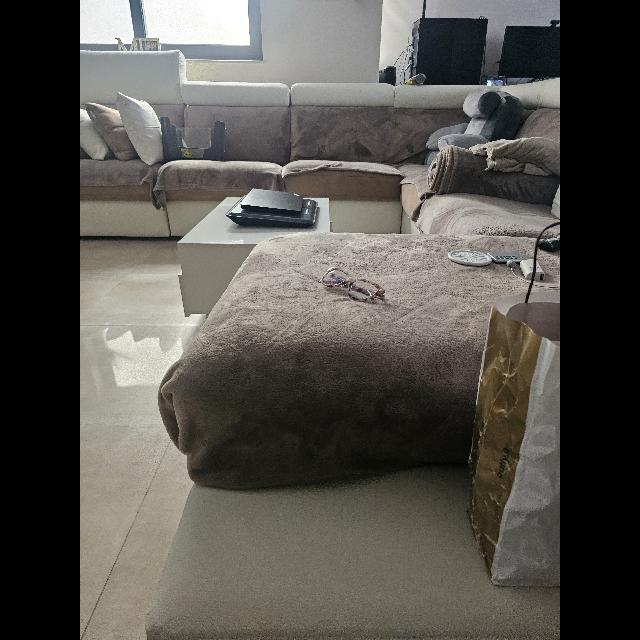glasses: (319, 268, 385, 302)
